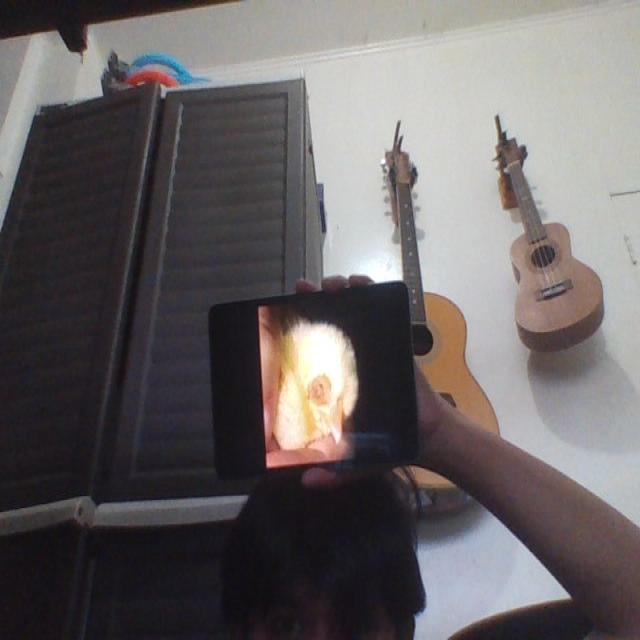Sick: (274, 318, 360, 456)
